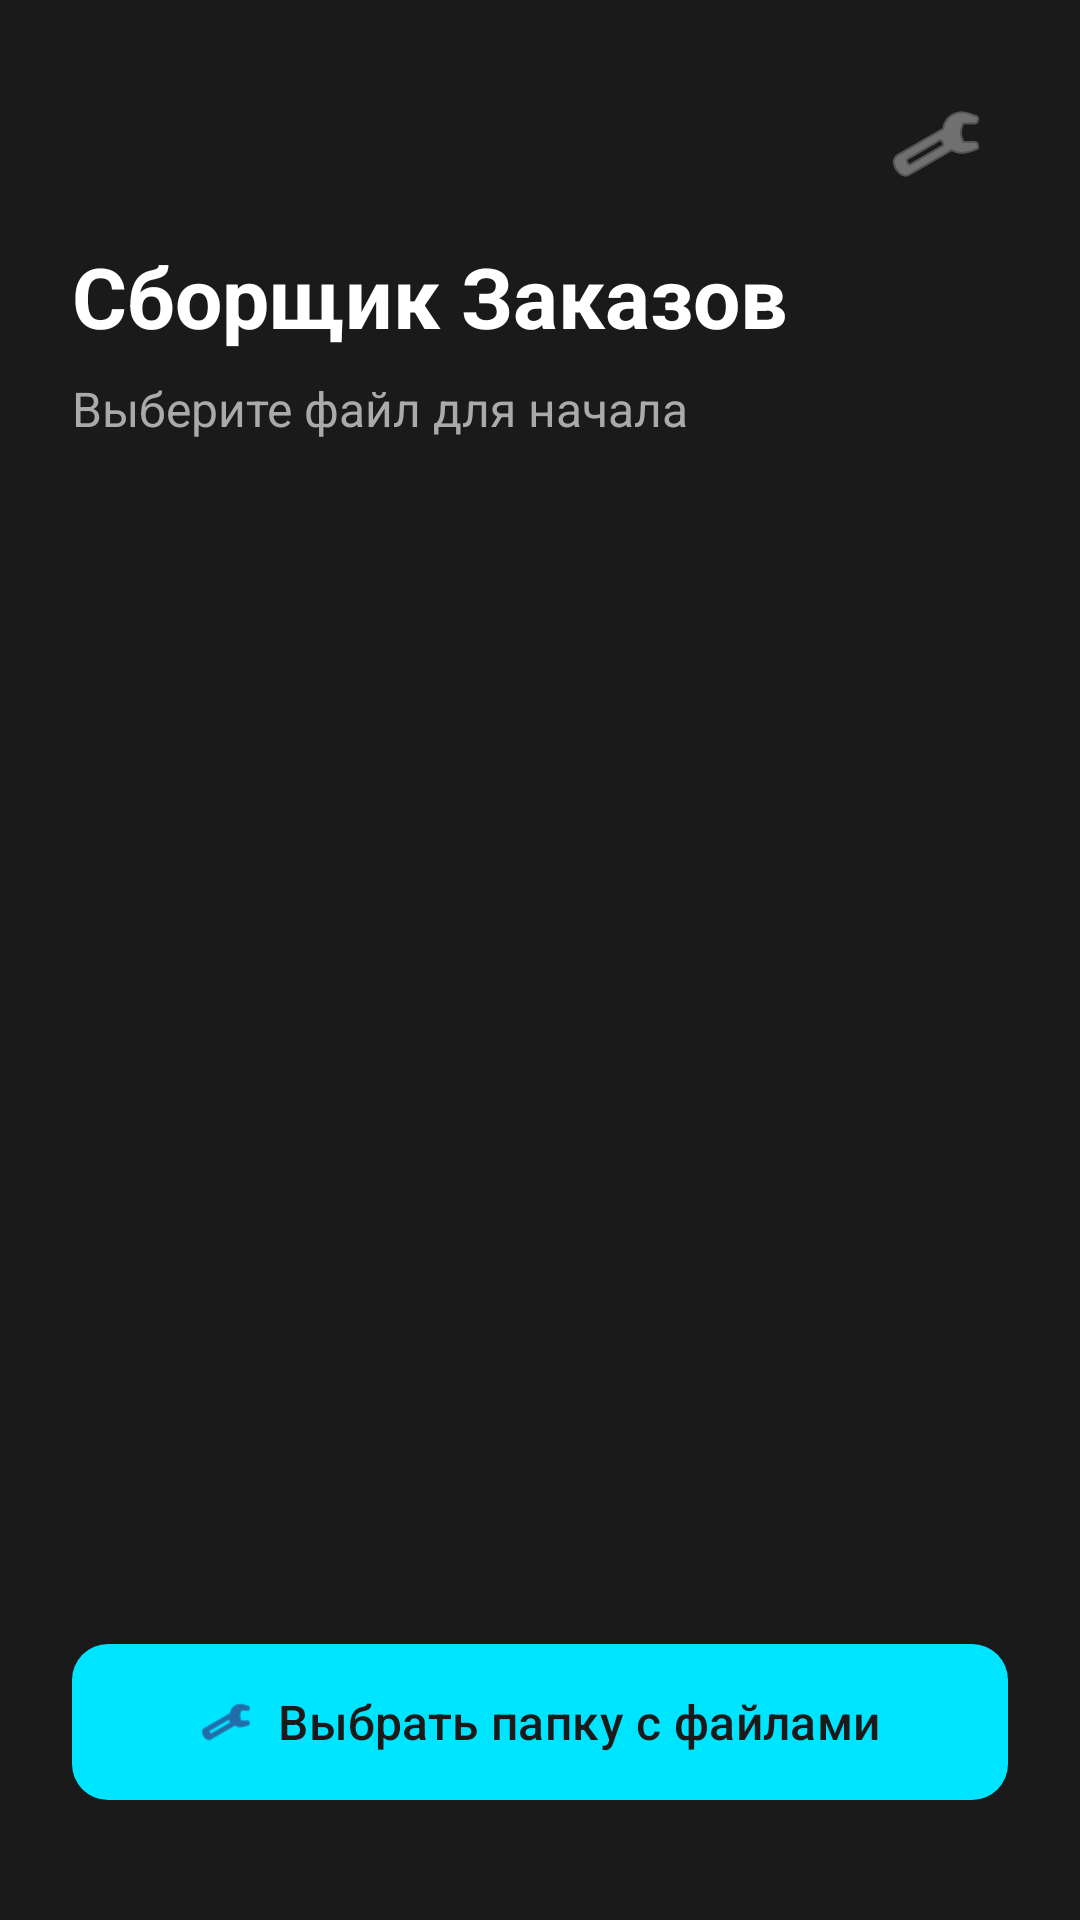

Point at icon controls on the screen. Image size 1080 x 1920, points as [x,y].
preferences: [936,144]
